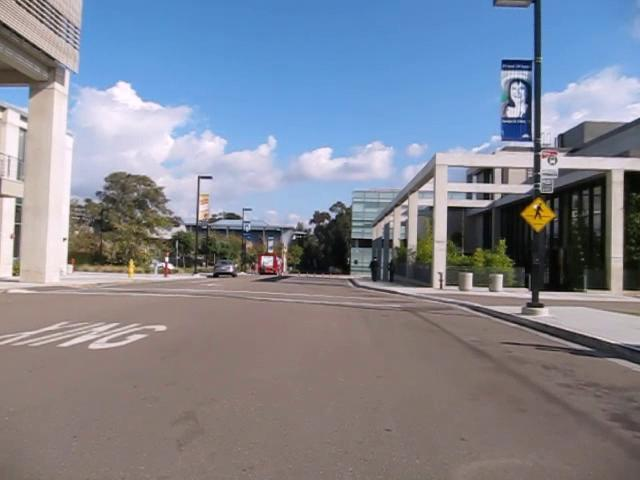pedestrianCrossing: (519, 196, 556, 233)
